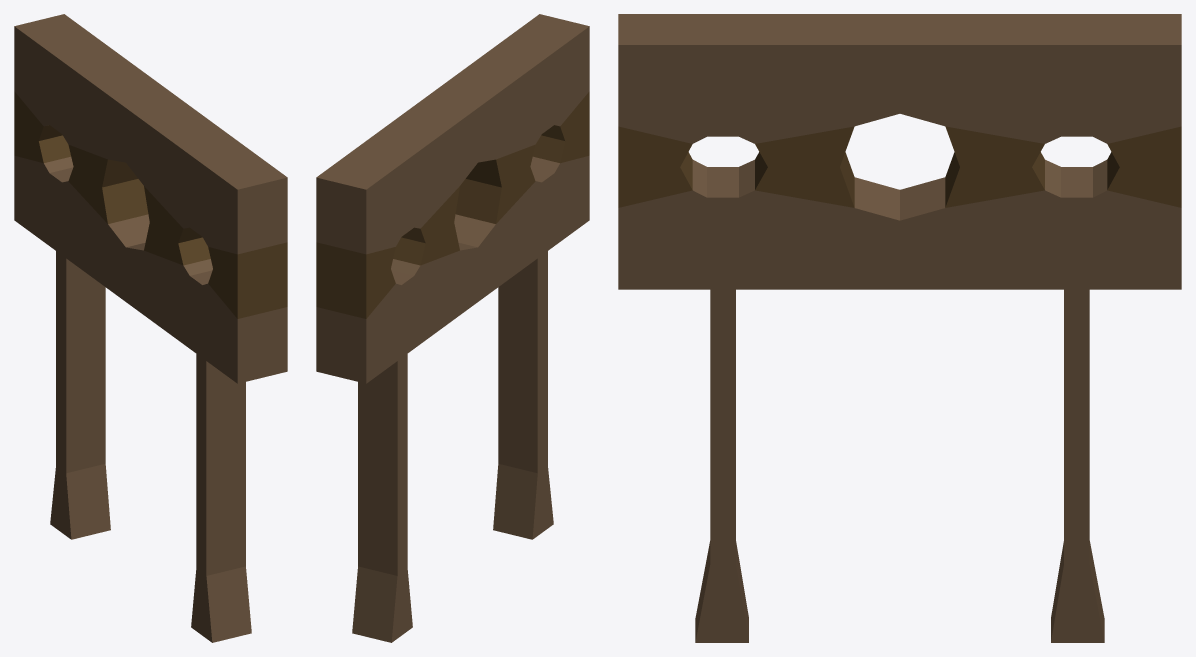
The model's file is dyby.fbx.
3 renders of one model, left to right at view 1: azimuth 30°, elevation 25°; view 2: azimuth 150°, elevation 25°; view 3: azimuth 270°, elevation 25°, orthographic. The views are drawn at different scales.
Visible parts, largest first — view 1: dyby; view 2: dyby; view 3: dyby.
Part boxes in pixels (box(x1,y1,x2,y2)): dyby: box(14, 14, 287, 642); dyby: box(316, 14, 589, 642); dyby: box(618, 14, 1181, 642).
Bounding box in the file's own units: 35.89 × 326 × 277.
